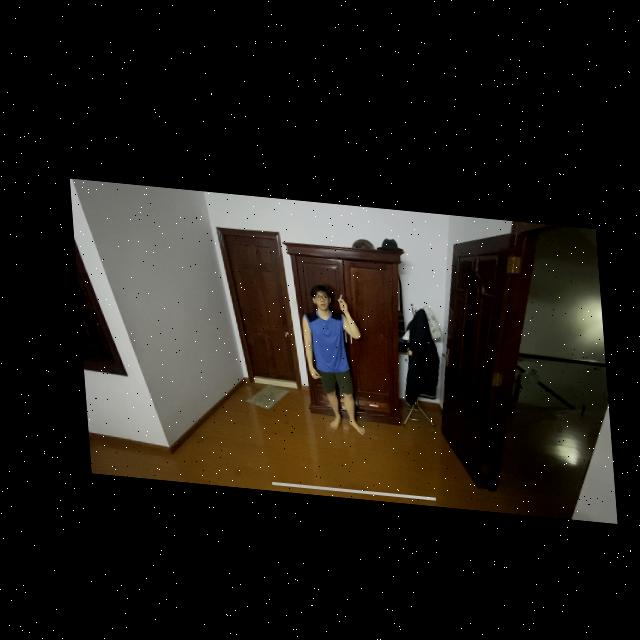cigarette: (336, 286, 339, 293)
